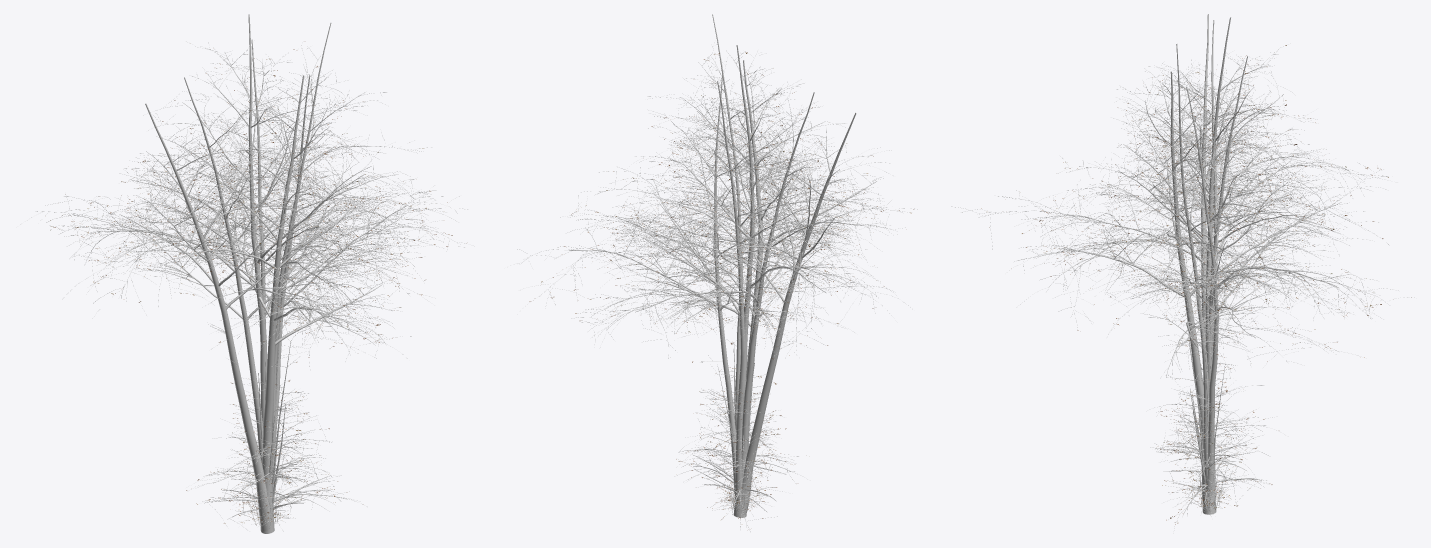
File: trees.glb
3 renders of one model, left to right at view 1: azimuth 30°, elevation 25°; view 2: azimuth 150°, elevation 25°; view 3: azimuth 270°, elevation 25°, orthographic. The views are drawn at different scales.
Visible parts, largest first — view 1: big_4_wood, big_0_wood, big_2_wood, big_5_wood, big_1_wood, big_3_wood, big_6_wood, pole_2_wood, pole_0_wood, pole_4_wood, pole_7_wood, pole_3_wood; view 2: big_0_wood, big_4_wood, big_2_wood, big_6_wood, big_5_wood, big_3_wood, big_1_wood, pole_4_wood, pole_0_wood, pole_2_wood, pole_6_wood; view 3: big_4_wood, big_0_wood, big_6_wood, big_1_wood, big_3_wood, big_2_wood, big_5_wood, pole_2_wood, pole_7_wood, pole_4_wood, pole_1_wood.
Boxes of the visible parts, box(x1,y1,x2,y2) form: big_4_wood: box(116, 71, 407, 533); big_0_wood: box(45, 14, 418, 392); big_2_wood: box(97, 77, 435, 465); big_5_wood: box(91, 103, 393, 533); big_1_wood: box(107, 23, 442, 481); big_3_wood: box(20, 39, 384, 467); big_6_wood: box(162, 75, 467, 506); pole_2_wood: box(188, 340, 331, 491); pole_0_wood: box(211, 373, 334, 514); pole_4_wood: box(191, 362, 364, 511); pole_7_wood: box(227, 403, 341, 524); pole_3_wood: box(216, 415, 314, 508); big_0_wood: box(607, 45, 912, 504); big_4_wood: box(571, 51, 905, 517); big_2_wood: box(591, 89, 917, 483); big_6_wood: box(510, 70, 823, 497); big_5_wood: box(672, 113, 883, 517); big_3_wood: box(612, 81, 854, 473); big_1_wood: box(560, 14, 891, 432); pole_4_wood: box(674, 352, 804, 514); pole_0_wood: box(686, 363, 794, 500); pole_2_wood: box(676, 339, 787, 494); pole_6_wood: box(694, 349, 798, 531); big_4_wood: box(1007, 68, 1414, 514); big_0_wood: box(1058, 17, 1396, 502); big_6_wood: box(1094, 86, 1366, 498); big_1_wood: box(951, 44, 1315, 489); big_3_wood: box(1059, 56, 1388, 458); big_2_wood: box(1032, 20, 1347, 385); big_5_wood: box(1095, 14, 1314, 501); pole_2_wood: box(1147, 331, 1281, 488); pole_7_wood: box(1162, 388, 1236, 505); pole_4_wood: box(1154, 362, 1264, 533); pole_1_wood: box(1157, 344, 1262, 489).
Size of the model in its own units: 24.53 by 29.88 by 25.73.
